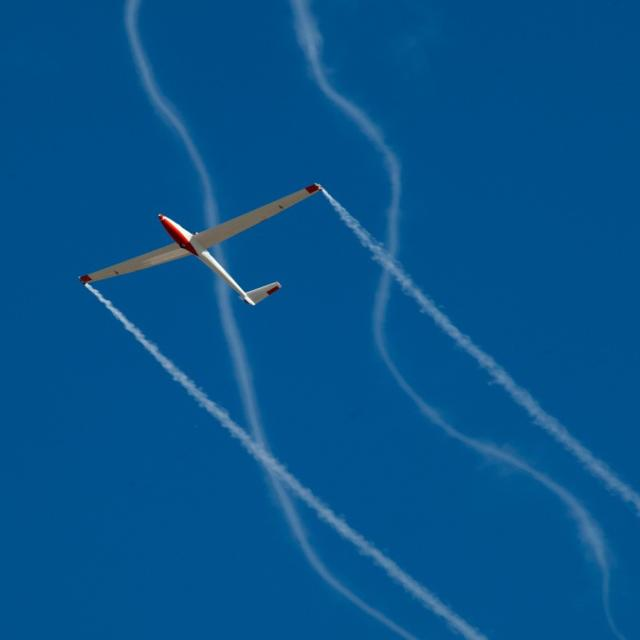iha: (70, 215, 320, 277)
